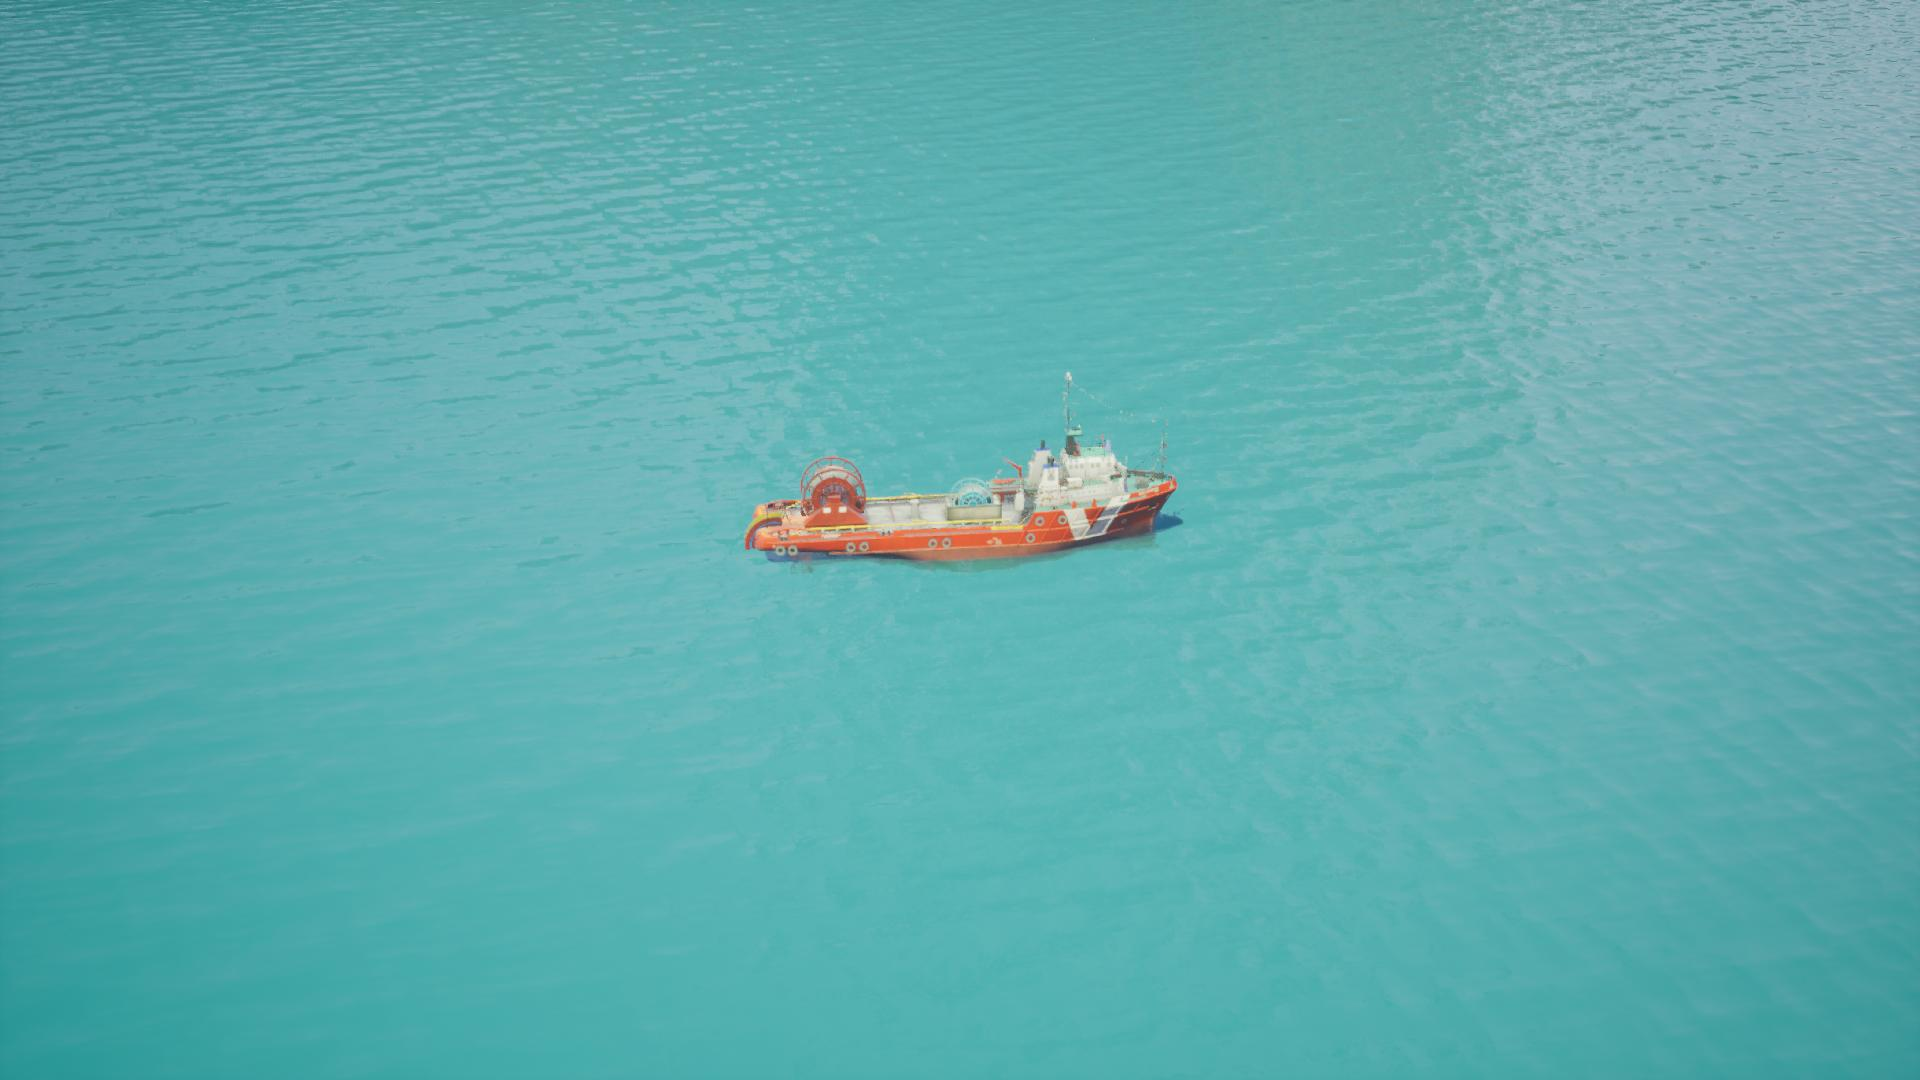Tug Boat: (745, 369, 1185, 572)
